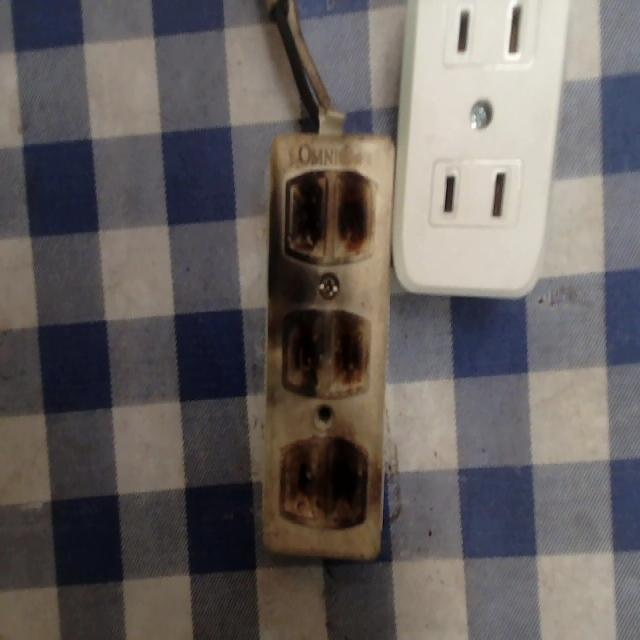-: (281, 162, 379, 262), (277, 301, 366, 403), (280, 428, 369, 528)
